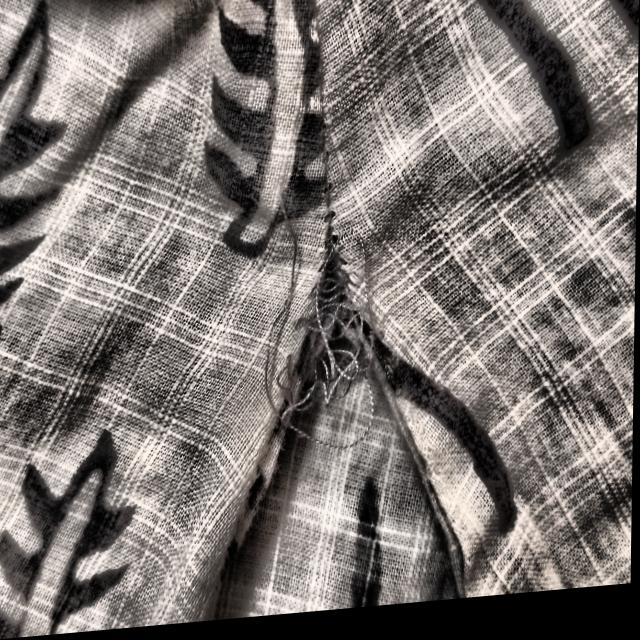Stitch: (250, 180, 404, 469)
